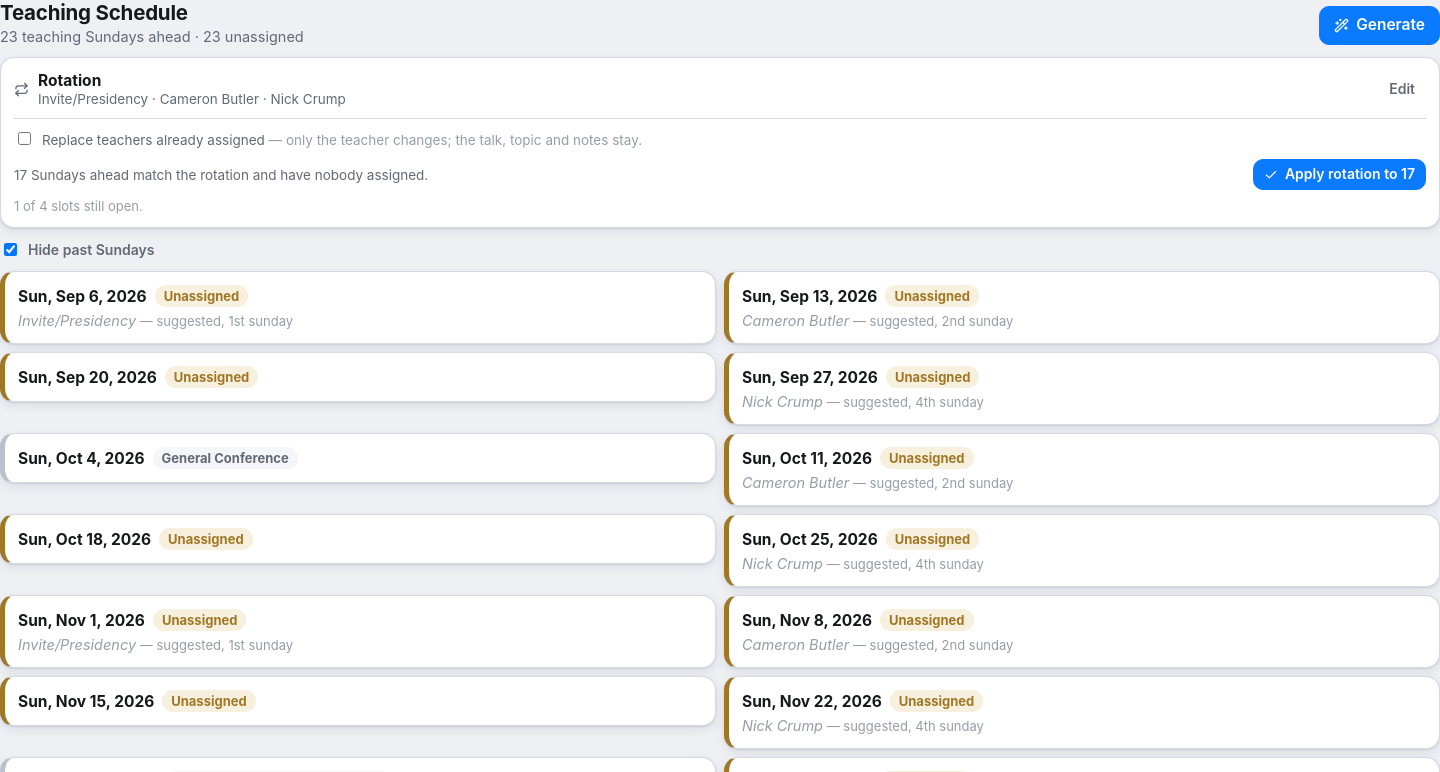
the rotation card › has no 5th Sunday slot
Click the button "Edit" at [1402, 89], box x1=1378 y1=74 x2=1426 y2=104
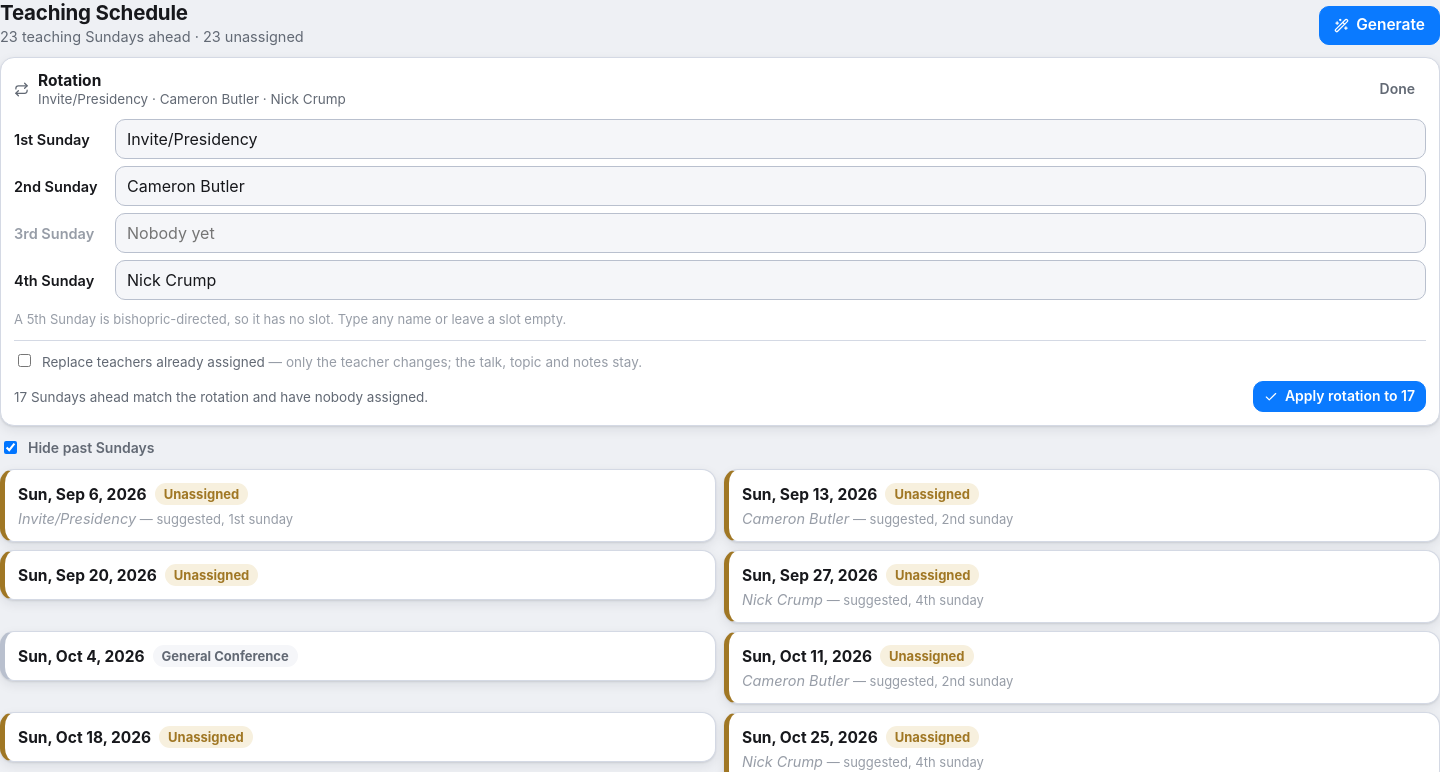
expect the field named "Teacher on the 4th Sunday" is shown: met, box x1=115 y1=260 x2=1426 y2=300
